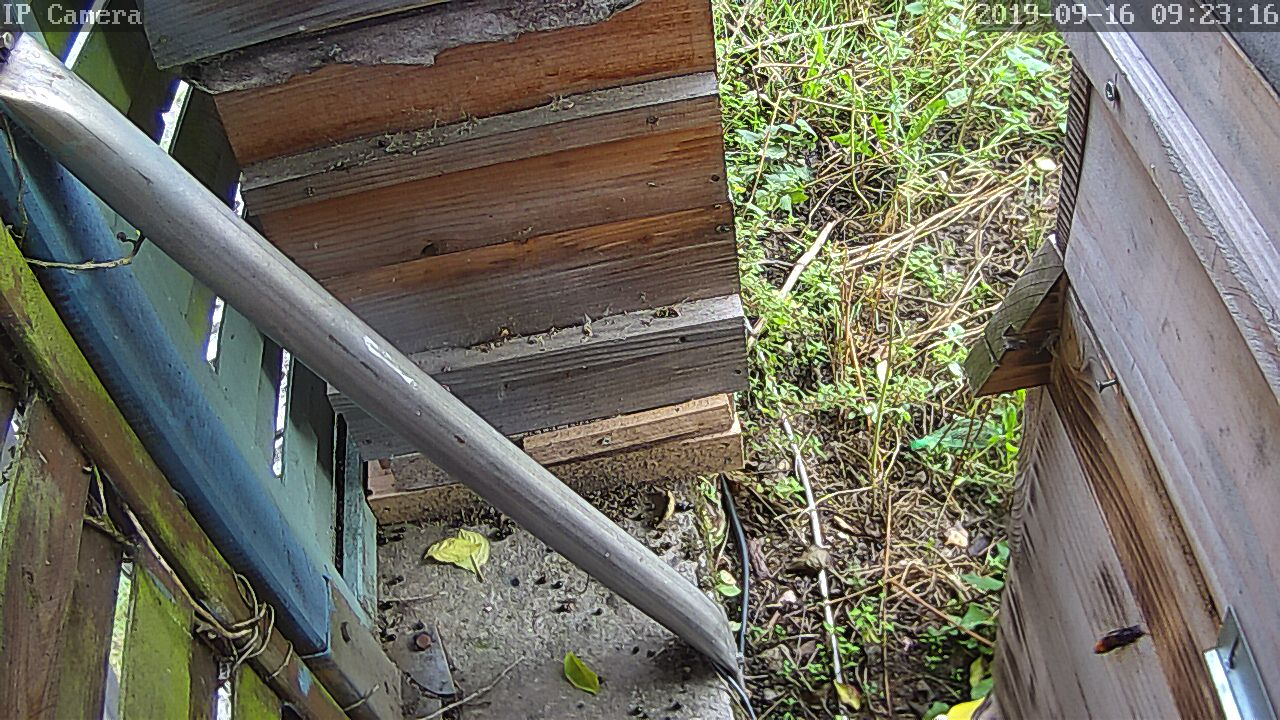hornet: (1092, 620, 1154, 660)
